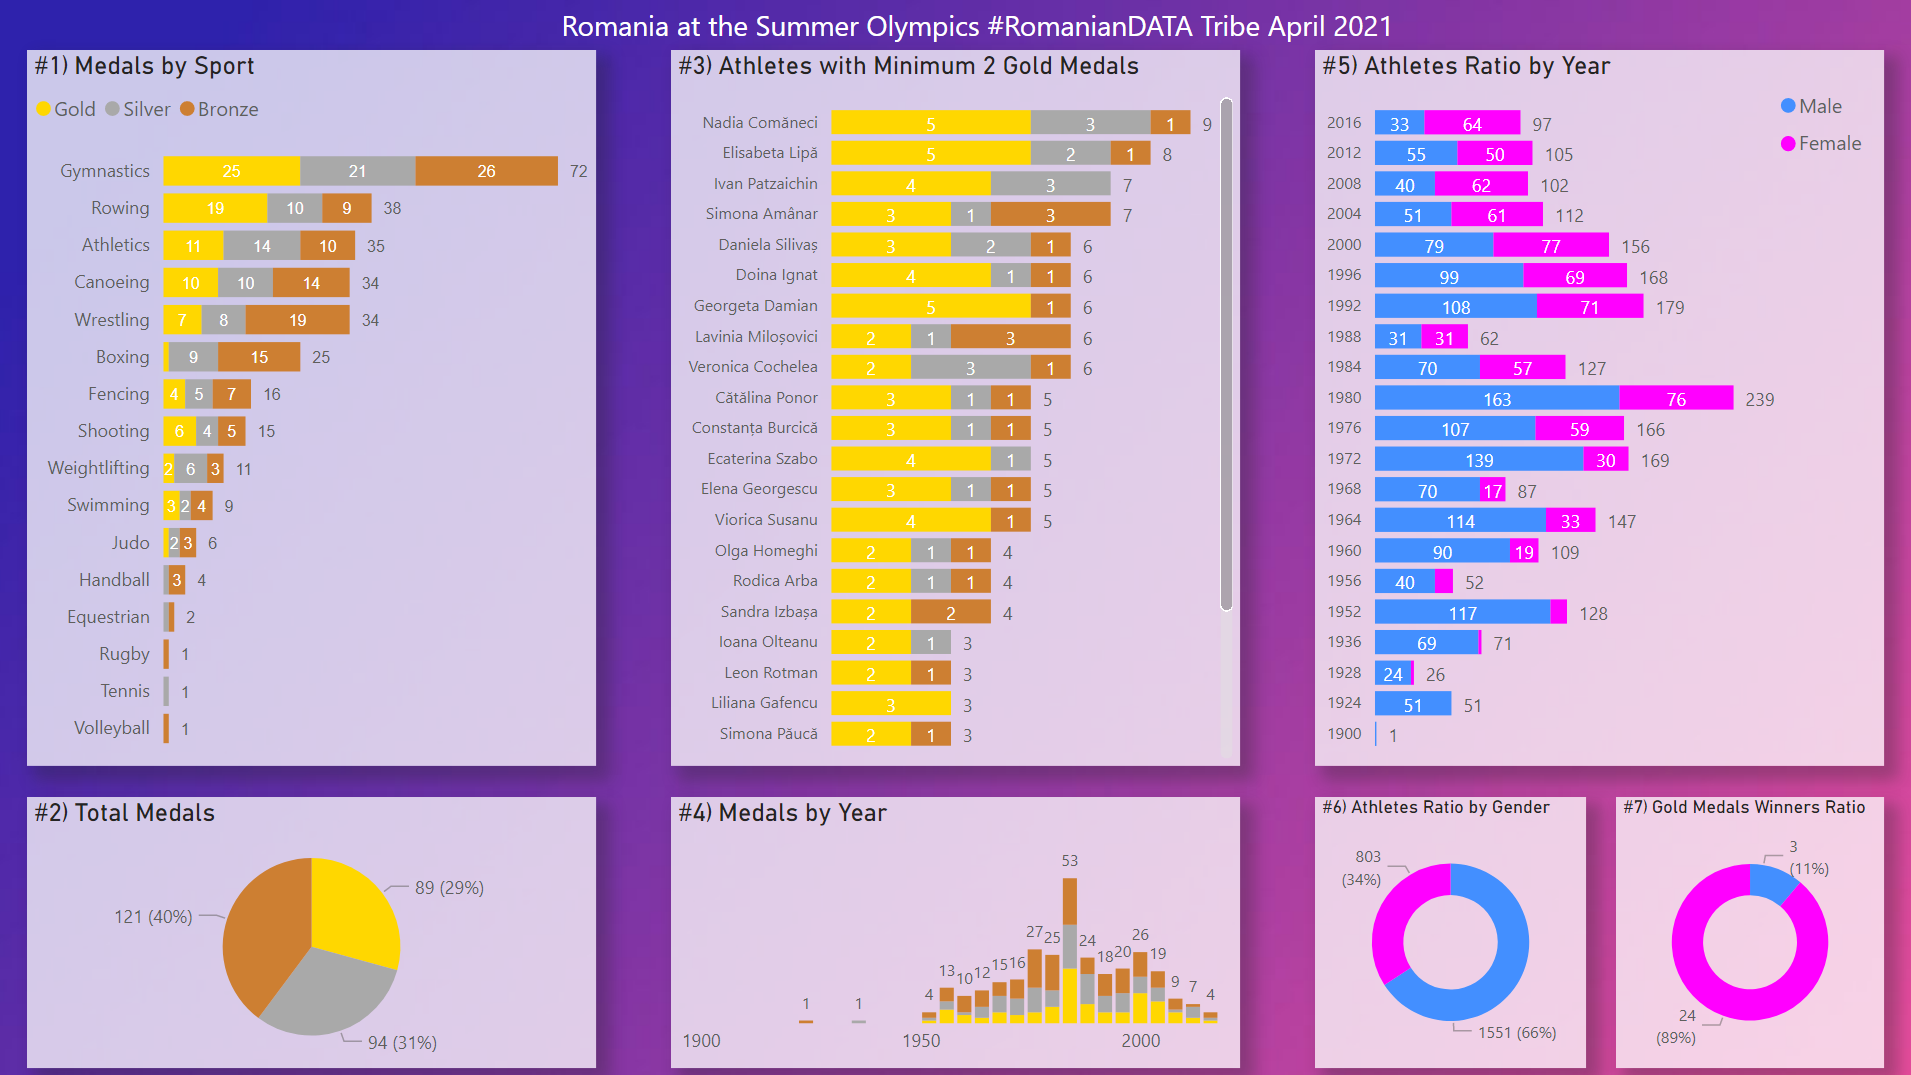

The dashboard page shown, as its layout file describes it:
{"tool":"powerbi","page":{"name":"Page 1","canvas":[1280,720],"ordinal":0},"visuals":[{"type":"pieChart","title":"#2) Total Bronze, Silver and Gold Medals","fields":{"Y":["Medals by Summer Games.Gold","Medals by Summer Games.Silver","Medals by Summer Games.Bronze"]},"box":[20.2,532.8,380,181.1],"z":0},{"type":"donutChart","title":"#6) Athletes Ratio by Gender","fields":{"Y":["No of Athletes Summer Olympics.Male","No of Athletes Summer Olympics.Female"]},"box":[873.5,532.8,180.5,181.1],"z":1000},{"type":"donutChart","title":"#7) Gold Medals Winners Ratio","fields":{"Y":["Summer medallists w min 2 gold.Male","Summer medallists w min 2 gold.Female"]},"box":[1074.2,532.8,179.2,181.1],"z":2000},{"type":"barChart","title":"#1) Bronze, Silver, Gold Medals by Sport","fields":{"Category":["Medals by summer sport.Sport"],"Y":["Medals by summer sport.Gold","Medals by summer sport.Silver","Medals by summer sport.Bronze"]},"box":[20.2,33.6,380,477.1],"z":3000},{"type":"barChart","title":"#3) Athletes with Minimum 2 Gold Medals","fields":{"Y":["Summer medallists w min 2 gold.Gold","Summer medallists w min 2 gold.Silver","Summer medallists w min 2 gold.Bronze"],"Category":["Summer medallists w min 2 gold.Athlete"]},"box":[449.6,33.6,379.9,477.1],"z":4000},{"type":"columnChart","title":"#4) Bronze, Silver and Gold Medals by Year","fields":{"Y":["Medals by Summer Games.Gold","Medals by Summer Games.Silver","Medals by Summer Games.Bronze"],"Category":["Medals by Summer Games.Year"]},"box":[450,532.6,379.9,181.5],"z":5000},{"type":"barChart","title":"#5) Athletes with Minimum 2 Gold Medals","fields":{"Category":["No of Athletes Summer Olympics.Year"],"Y":["No of Athletes Summer Olympics.Male","No of Athletes Summer Olympics.Female"]},"box":[873.5,33.6,379.9,477.1],"z":6000},{"type":"textbox","box":[449.5,0,379.6,33.8],"z":7000}]}

Visuals, with their boxes in screenshot pixels (x1, y1, x2, y2), scaled from the page's 1280x720 canvas onto the 1911x1075 screenshot:
"#2) Total Bronze, Silver and Gold Medals" pieChart: [30,796,597,1066]
"#6) Athletes Ratio by Gender" donutChart: [1304,796,1574,1066]
"#7) Gold Medals Winners Ratio" donutChart: [1604,796,1871,1066]
"#1) Bronze, Silver, Gold Medals by Sport" barChart: [30,50,597,763]
"#3) Athletes with Minimum 2 Gold Medals" barChart: [671,50,1238,763]
"#4) Bronze, Silver and Gold Medals by Year" columnChart: [672,795,1239,1066]
"#5) Athletes with Minimum 2 Gold Medals" barChart: [1304,50,1871,763]
textbox: [671,0,1238,50]
